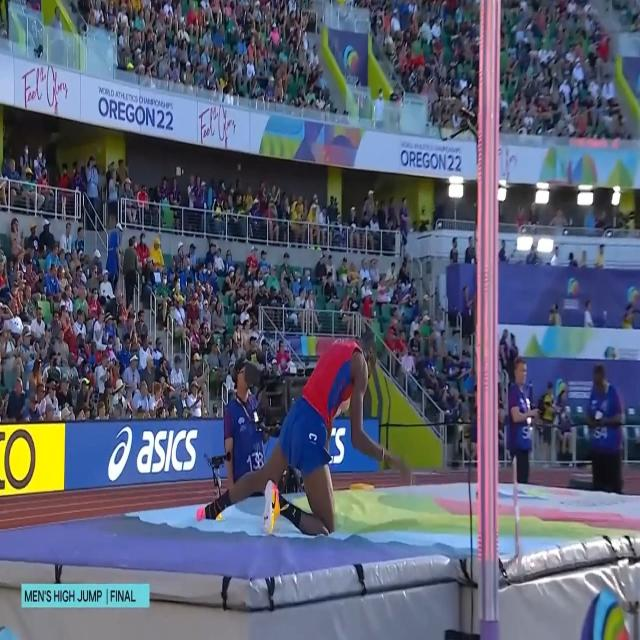land: (194, 331, 414, 537)
